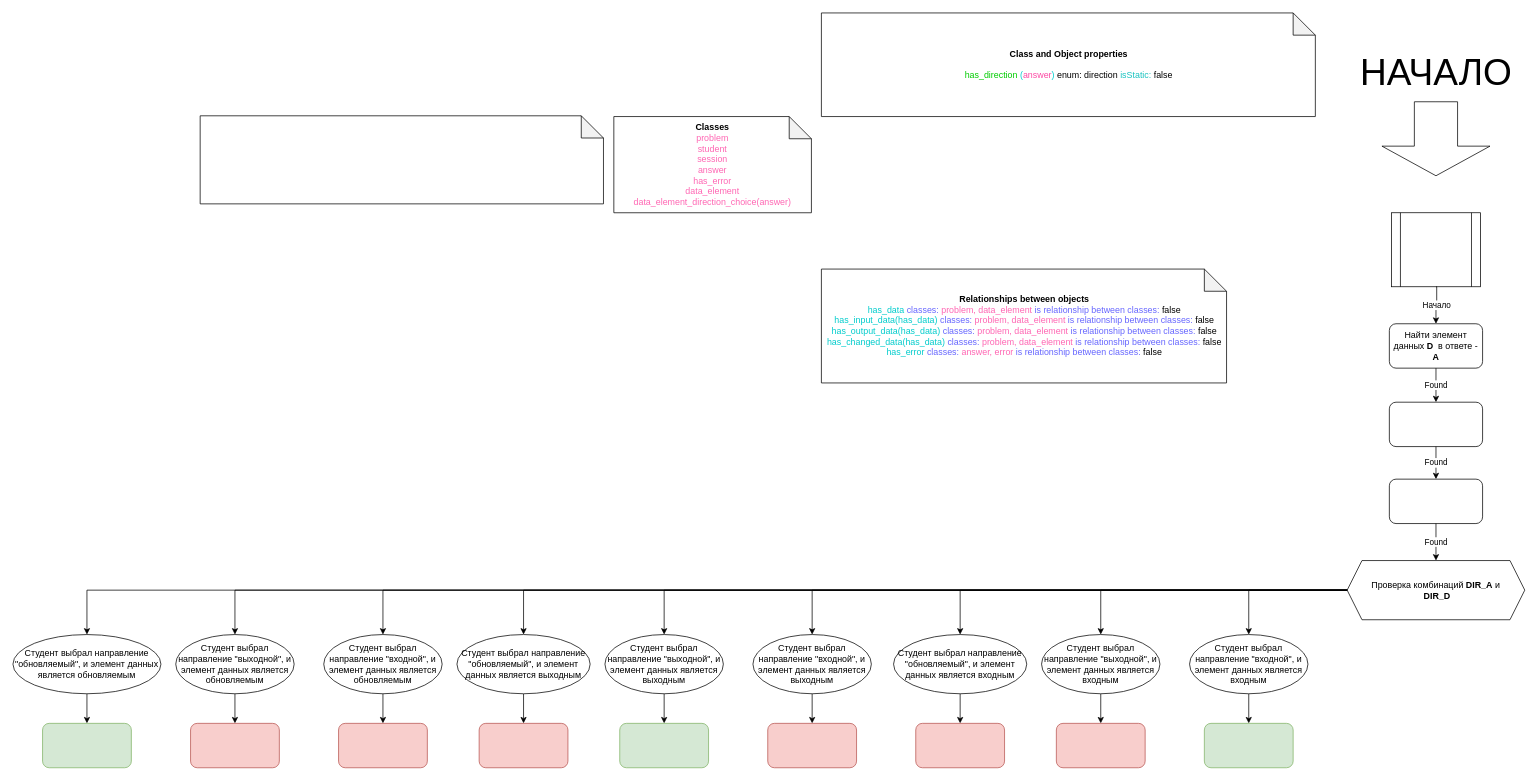
This 1538x781 diagram has some shape labels left out. The shapes that lost their labels are listed below. From the top down, each one's box as (x1, y1, x2, y2) in pixels, then its label:
(199, 115, 603, 204): Enum direction values:( Input, Output, Changed ) isLinear: false
(1391, 212, 1480, 287): A - answer
(1389, 401, 1483, 447): Найти направление данных DIR_A в ответе - A
(1389, 478, 1483, 524): Найти направление данных DIR_D для элемента данных D
